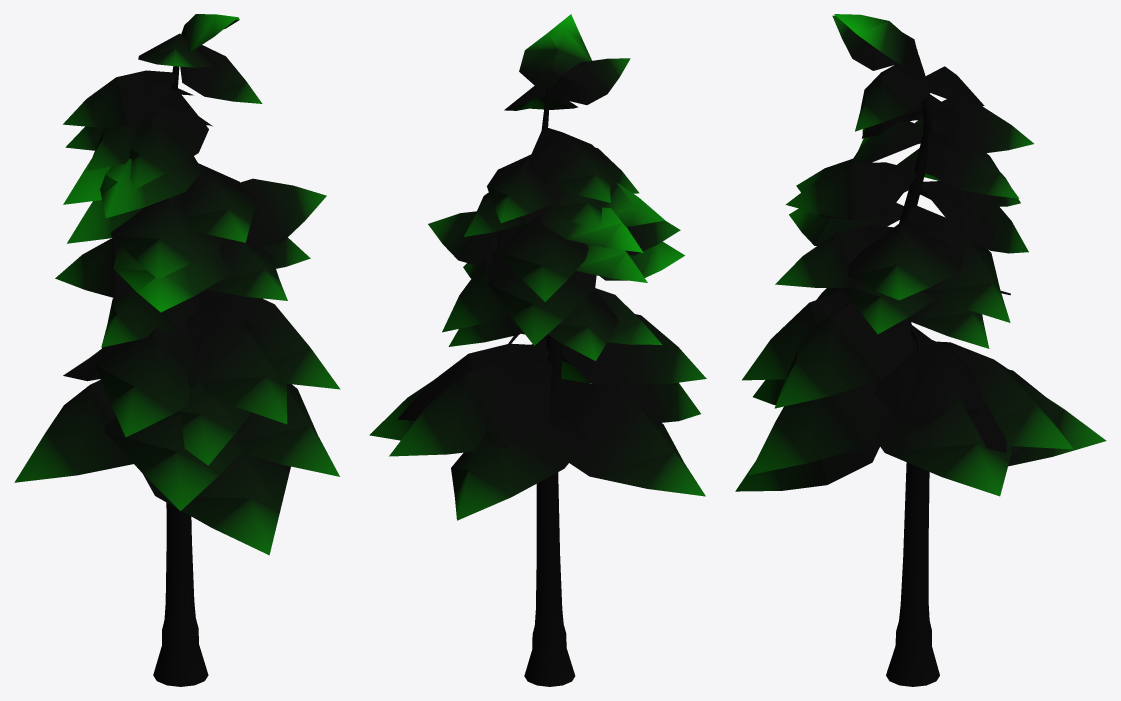
Rendered from SM_Tree_03_Middle.fbx.
The picture shows the model from 3 angles, left to right: view 1: azimuth 30°, elevation 25°; view 2: azimuth 150°, elevation 25°; view 3: azimuth 270°, elevation 25°; orthographic projection. The views are drawn at different scales.
Parts seen in each view (by area): view 1: SM_Tree_03_Middle; view 2: SM_Tree_03_Middle; view 3: SM_Tree_03_Middle.
Boxes of the visible parts, x1=… form: SM_Tree_03_Middle: x1=14, y1=14, x2=340, y2=686; SM_Tree_03_Middle: x1=369, y1=14, x2=706, y2=686; SM_Tree_03_Middle: x1=735, y1=14, x2=1106, y2=686.
Size of the model in its own units: 459 by 939 by 472.
